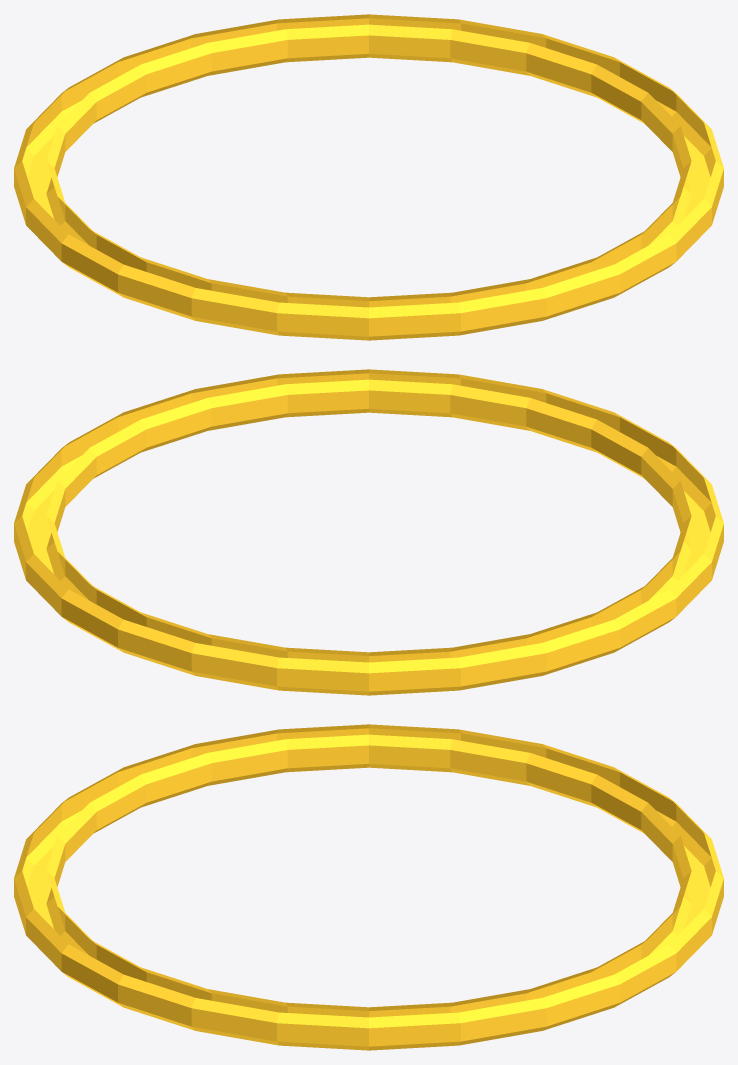
Rendered from Podium_Rim.fbx.
3 renders of one model, top to bottom at view 1: azimuth 30°, elevation 25°; view 2: azimuth 150°, elevation 25°; view 3: azimuth 270°, elevation 25°, orthographic.
Visible parts, largest first — view 1: Podium_Rim; view 2: Podium_Rim; view 3: Podium_Rim.
Part boxes in pixels (box(x1,y1,x2,y2)): Podium_Rim: box(14, 14, 723, 340); Podium_Rim: box(14, 369, 723, 695); Podium_Rim: box(14, 724, 723, 1050).
Bounding box in the file's own units: 1.75 × 0.09 × 1.75.
